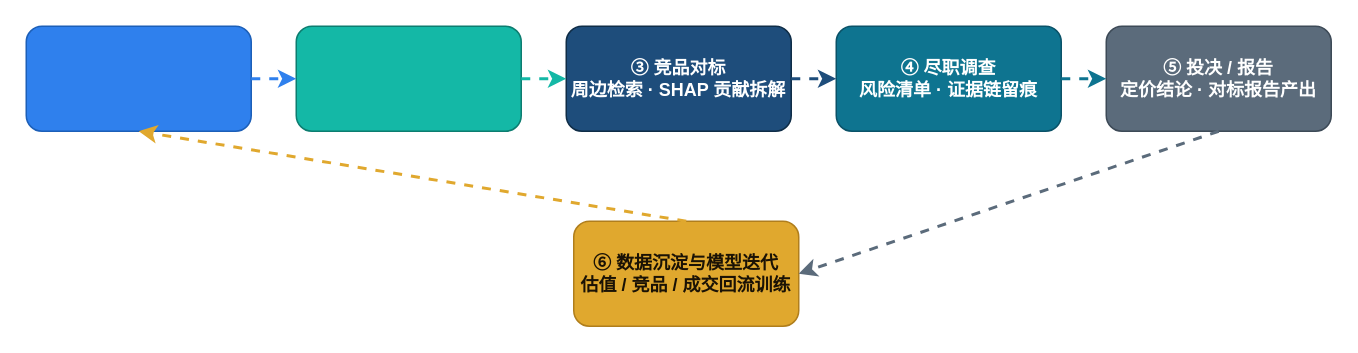
This 1358x353 diagram has some shape labels left out. Each missing label, with the box of its shape:
① 找标的 / 资产盘点 GIS 地图 · 资产台账 · 225 在管: (25, 25, 251, 131)
② 智能估值 Hedonic 定价 · 分钟级出价: (295, 25, 521, 131)
